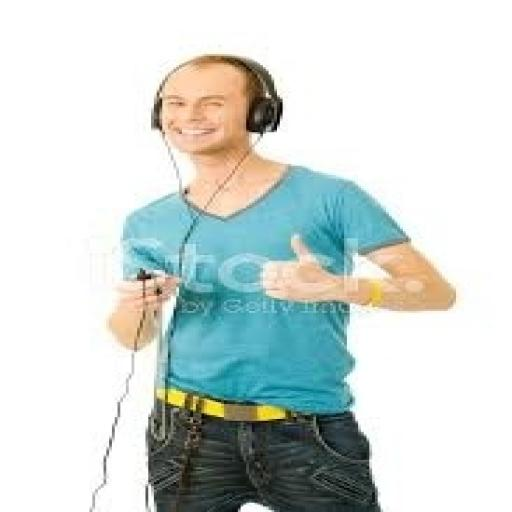listening_to_music: (101, 52, 459, 510)
